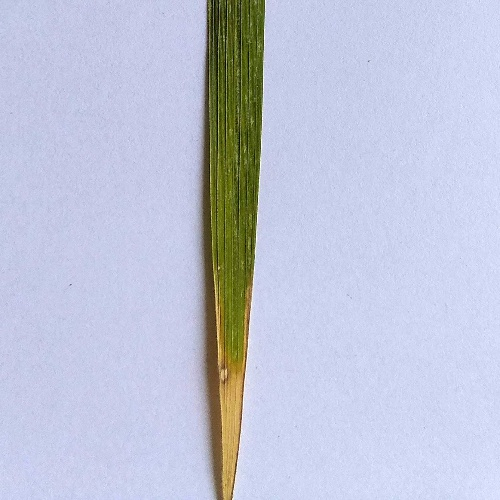Busuk Leher: (207, 366, 255, 498)
